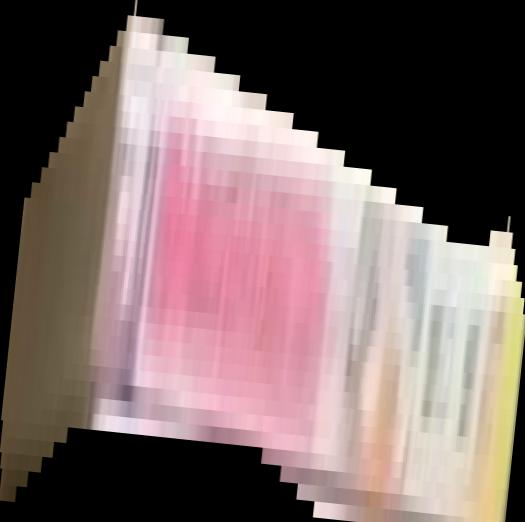flat: (1, 1, 525, 522)
